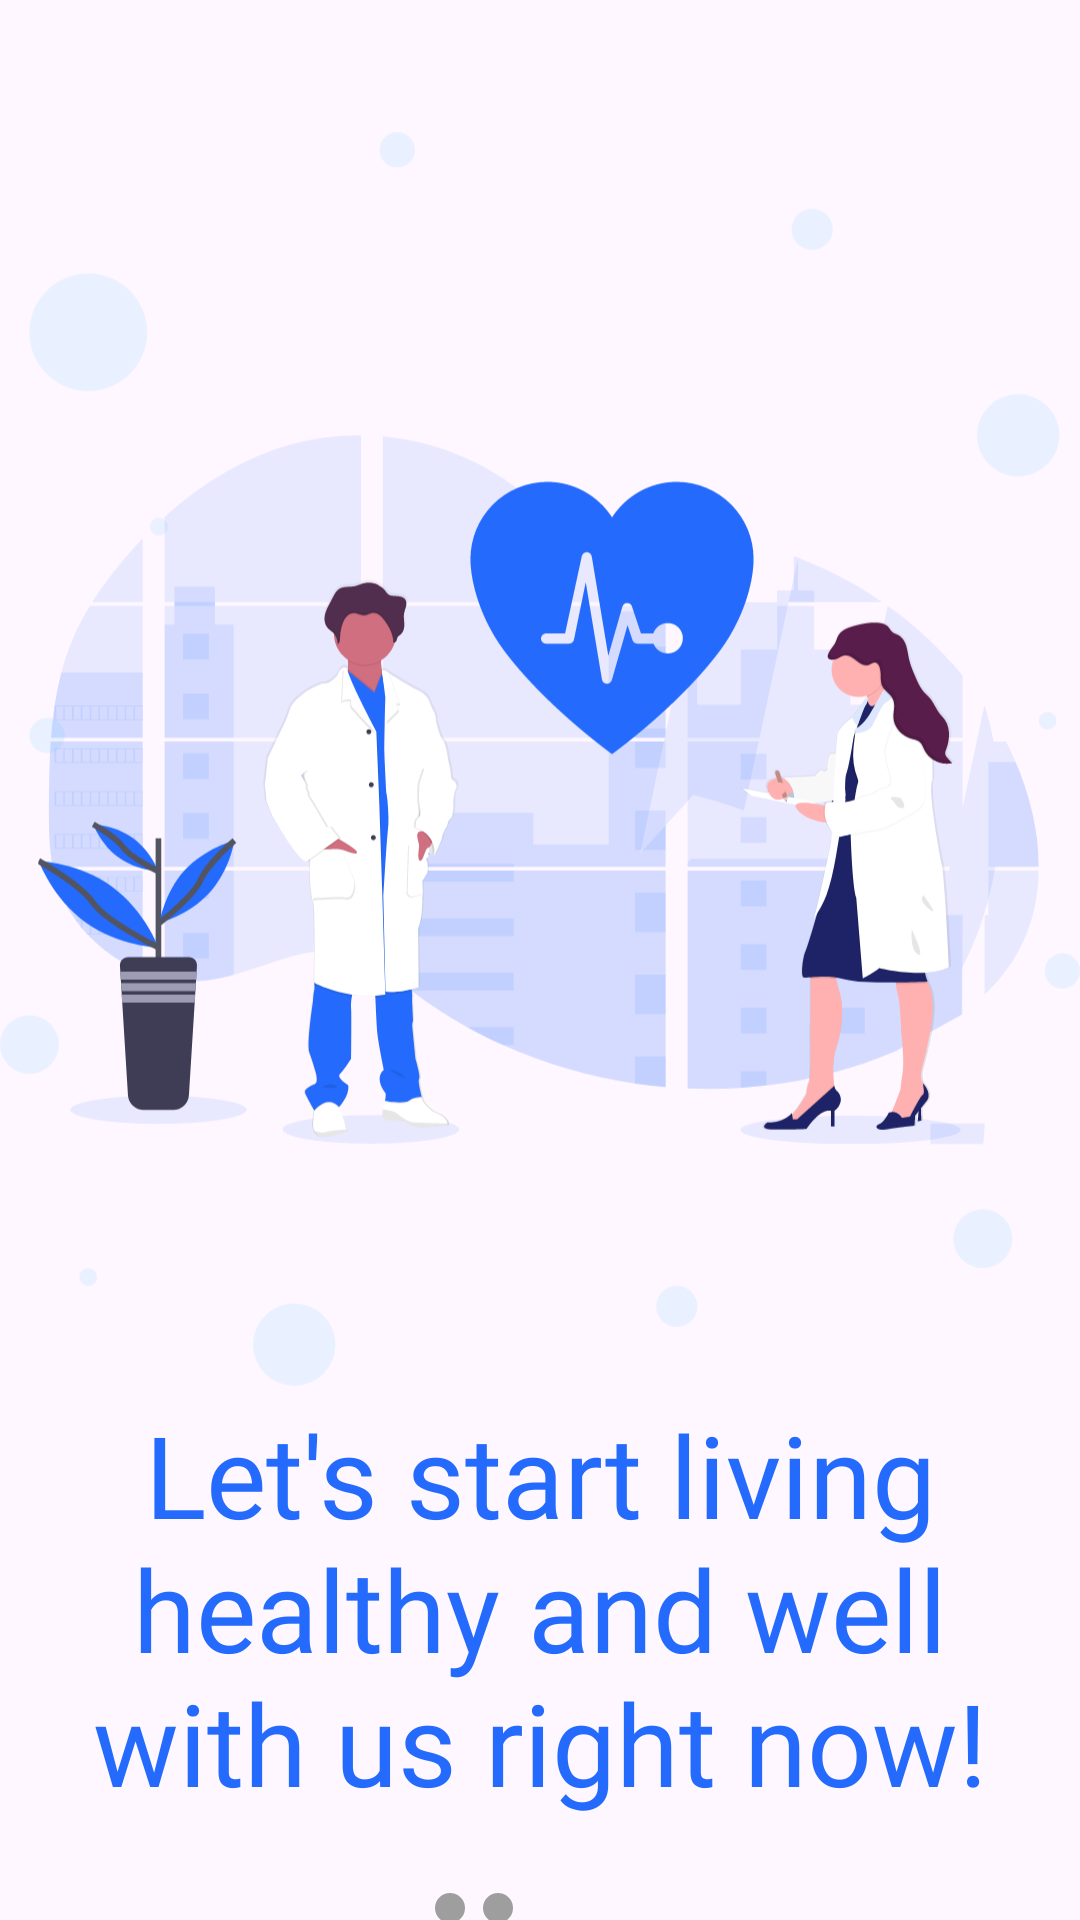

Icon bounding boxes for this 1080 × 1920 phone screenshot, format [x1=x1, y1=y1, x2=x2, y2=y2]:
indicator: [x1=435, y1=1893, x2=465, y2=1920], [x1=483, y1=1893, x2=513, y2=1920]
